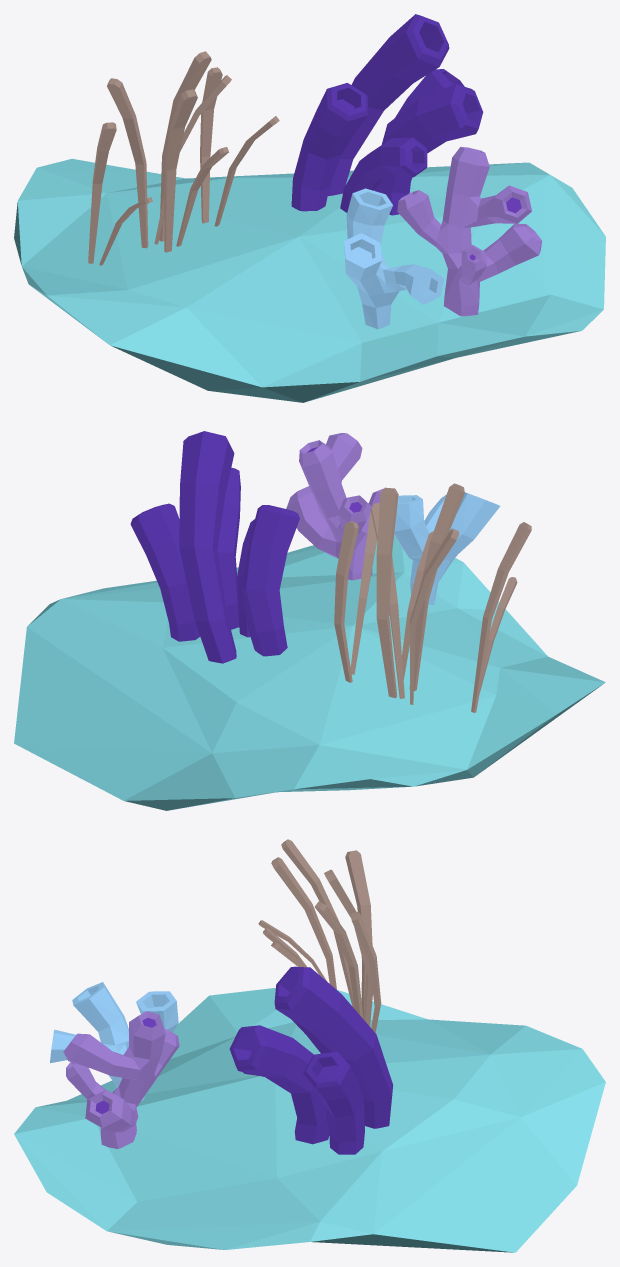
File: Coralls_014.glb
The picture shows the model from 3 angles, top to bottom: view 1: azimuth 30°, elevation 25°; view 2: azimuth 150°, elevation 25°; view 3: azimuth 270°, elevation 25°; orthographic projection. The views are drawn at different scales.
Visible parts, largest first — view 1: Coralls_014; view 2: Coralls_014; view 3: Coralls_014.
Part boxes in pixels (<box>): Coralls_014: <box>14,14,605,402</box>; Coralls_014: <box>14,431,605,810</box>; Coralls_014: <box>14,839,605,1252</box>.
Bounding box in the file's own units: 2.03 × 1.17 × 2.1.
Materials: 2 (2 with a texture image).
